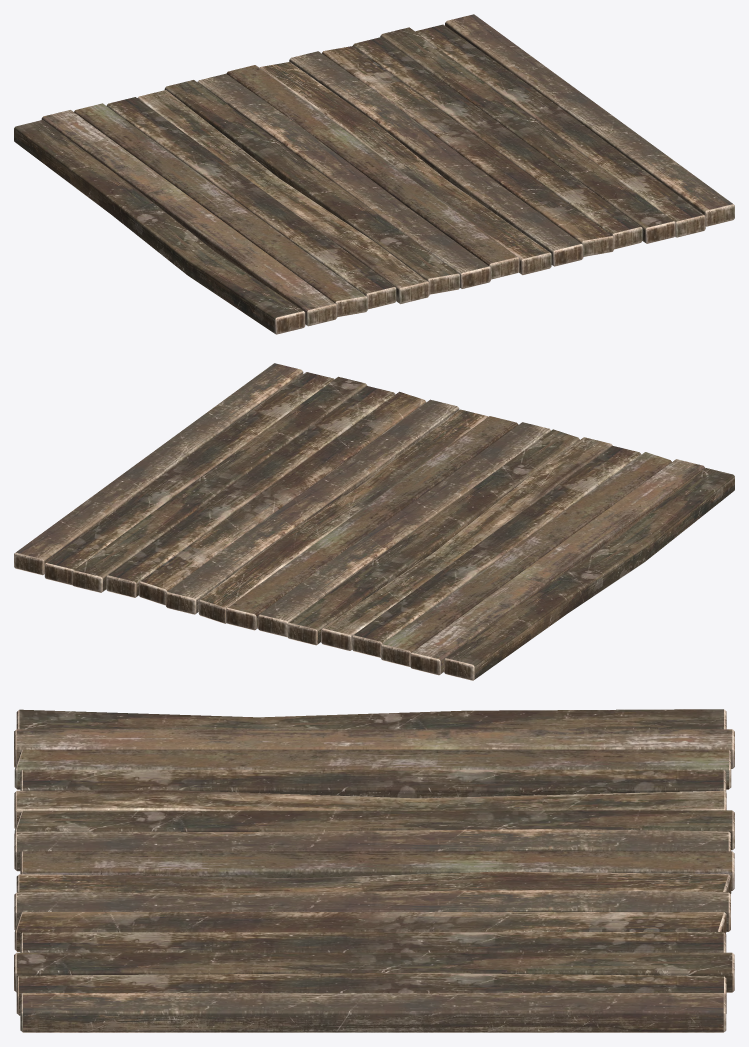
3 renders of one model, top to bottom at view 1: azimuth 30°, elevation 25°; view 2: azimuth 150°, elevation 25°; view 3: azimuth 270°, elevation 25°, orthographic. The views are drawn at different scales.
Parts seen in each view (by area): view 1: SM_Human_Ruins_Floor_Wood_02_LOD0; view 2: SM_Human_Ruins_Floor_Wood_02_LOD0; view 3: SM_Human_Ruins_Floor_Wood_02_LOD0.
Boxes of the visible parts, bbox=[...] form: SM_Human_Ruins_Floor_Wood_02_LOD0: bbox=[14, 14, 734, 334]; SM_Human_Ruins_Floor_Wood_02_LOD0: bbox=[14, 363, 734, 680]; SM_Human_Ruins_Floor_Wood_02_LOD0: bbox=[14, 709, 734, 1032].
Bounding box in the file's own units: 4 × 0.2036 × 4.
1 material, 1 textured.
